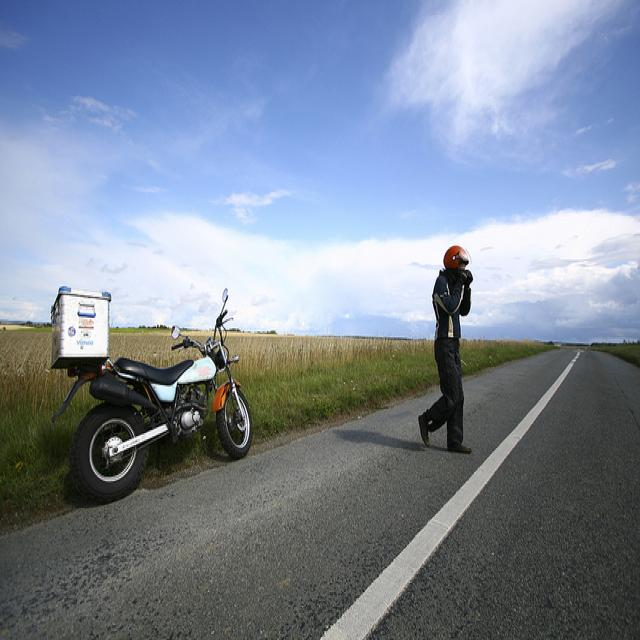motor: (50, 284, 258, 506)
